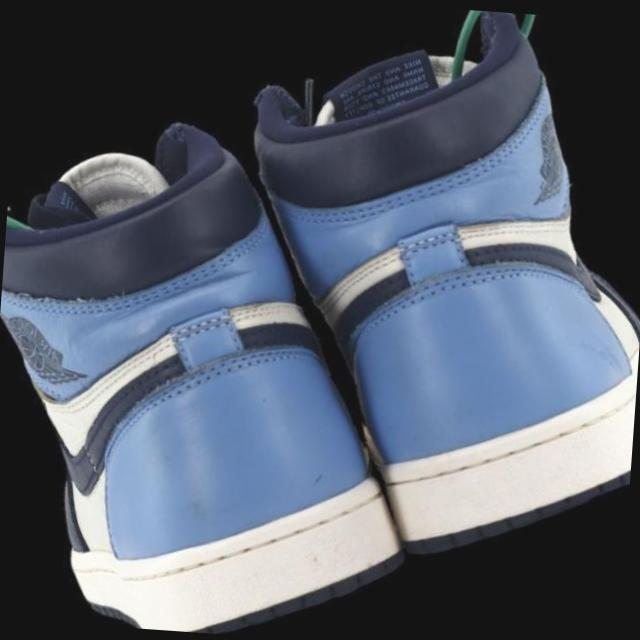nike_original_jordan: (198, 0, 640, 591), (0, 73, 449, 640)
